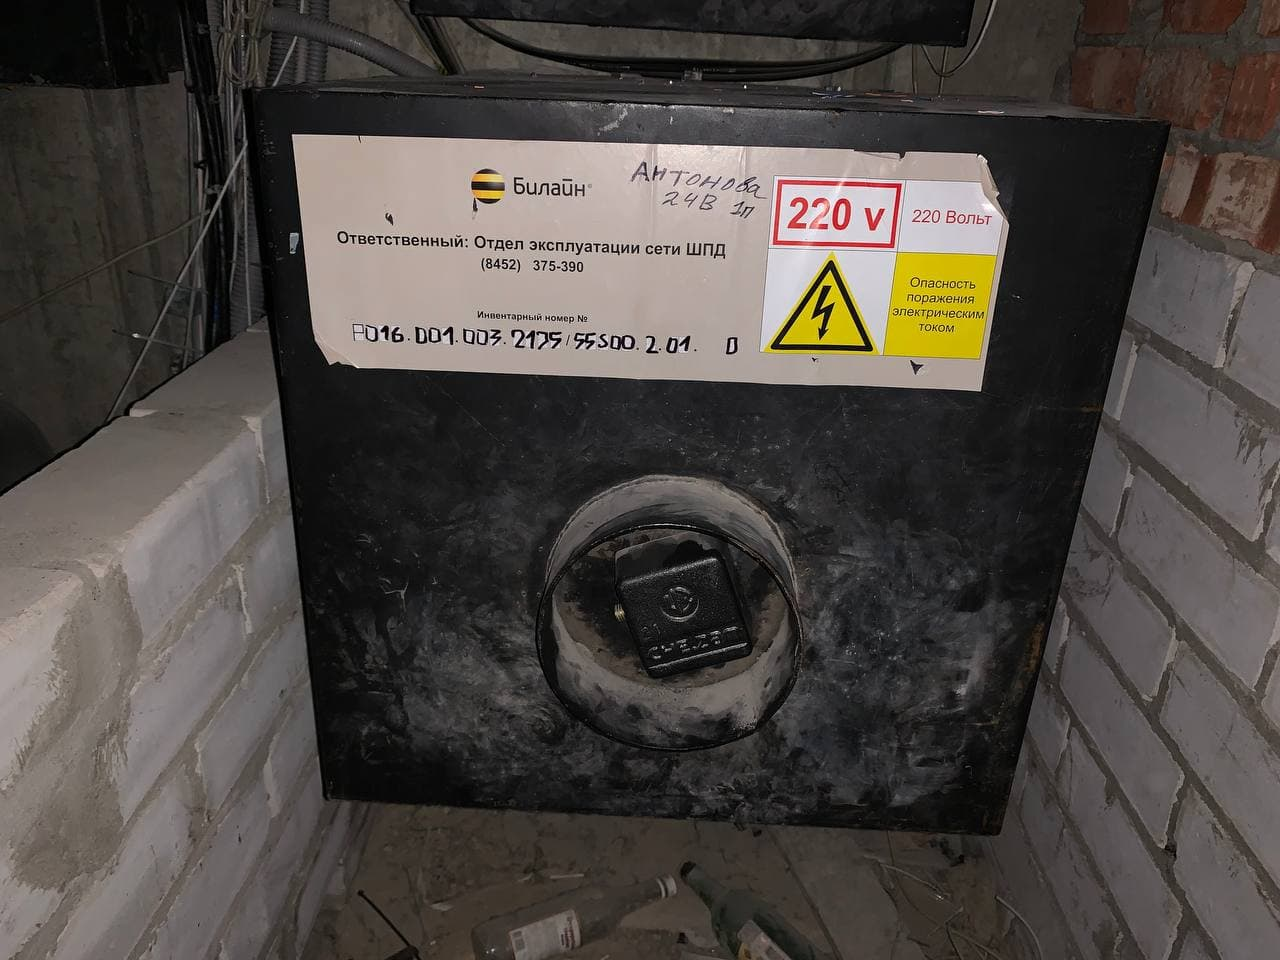shta-9: (220, 52, 1184, 848)
